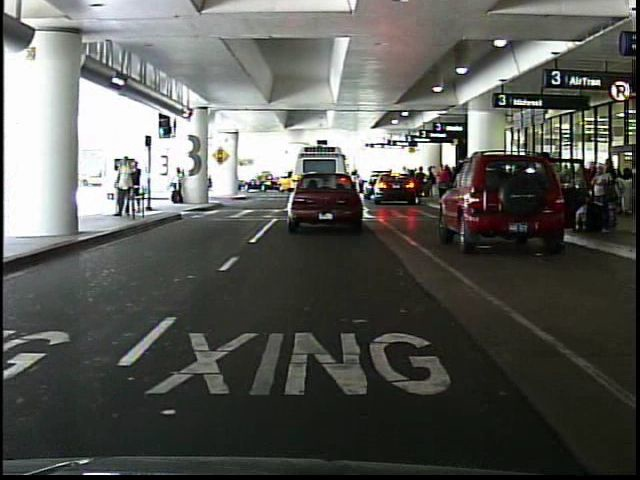person: (531, 150, 565, 235), (113, 153, 137, 223), (131, 159, 147, 219), (168, 168, 188, 209), (436, 164, 452, 202)
